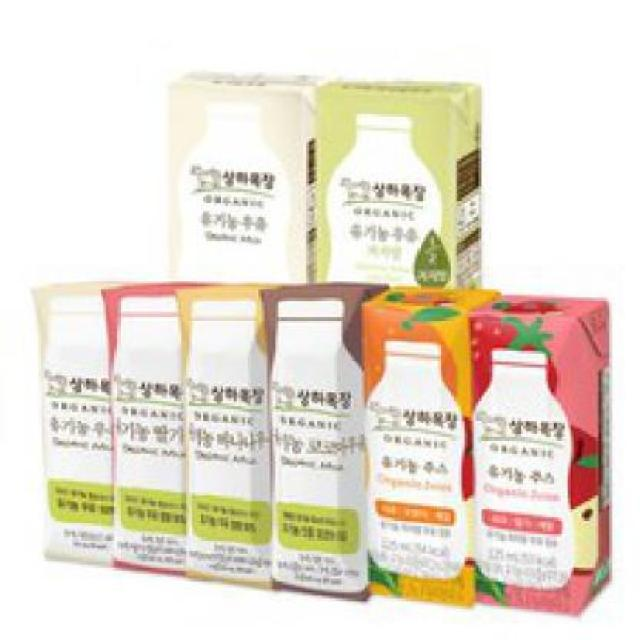tetra: (468, 272, 637, 630), (372, 260, 502, 622), (268, 259, 401, 606), (190, 270, 292, 612), (18, 268, 120, 582), (111, 272, 200, 593)
